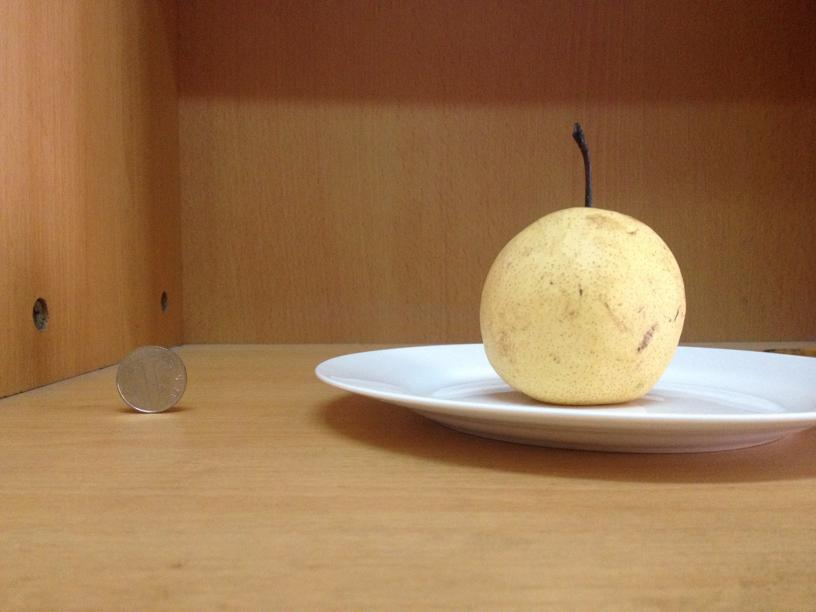coin: (113, 342, 186, 413)
pear: (476, 204, 688, 402)
